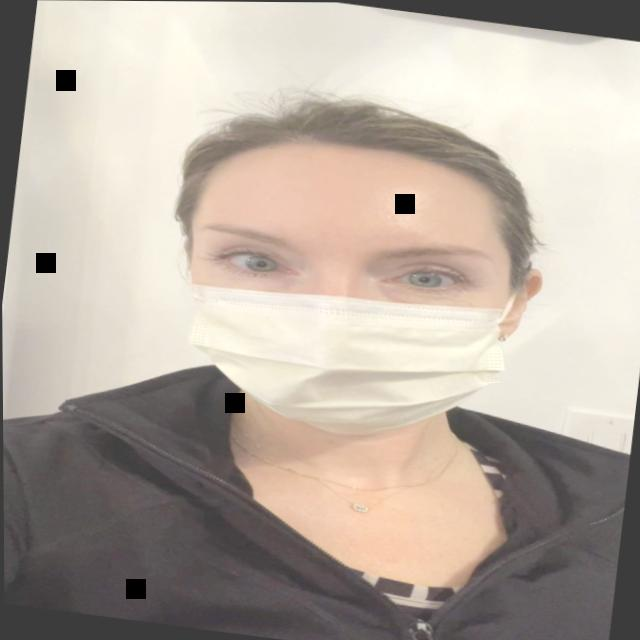Mask: (126, 92, 573, 474)
